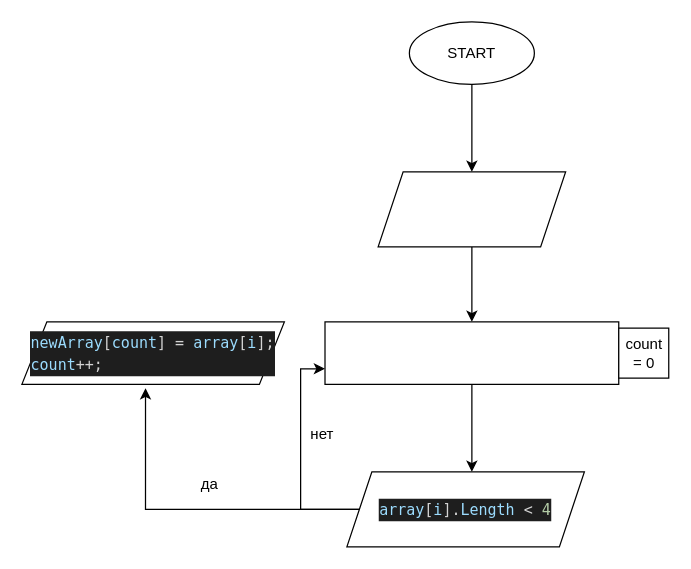
The diagram is 691 pixels wide and 569 high, and some of its shapes have lost their labels. The shapes that lost their labels are listed below. From the top down, each one's centre as x and y in pixels, then its label:
At point 471,209: "array newArray".
At point 471,352: "int i = 0 ; i < array . Length ; i ++".
